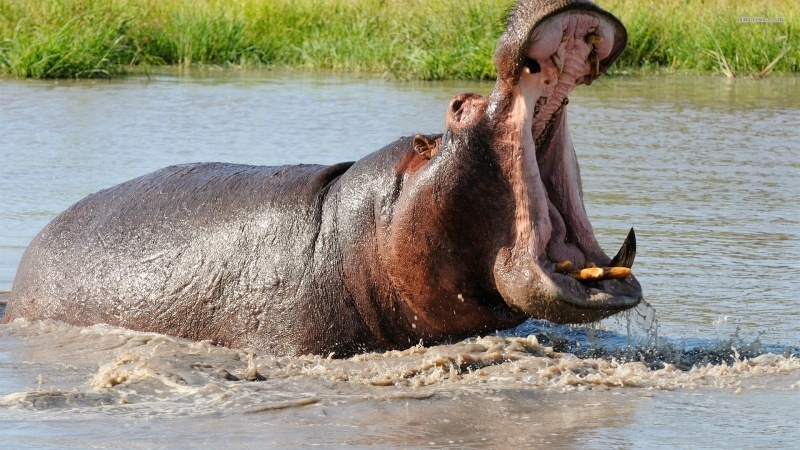hipopotamo: (1, 1, 666, 385)
